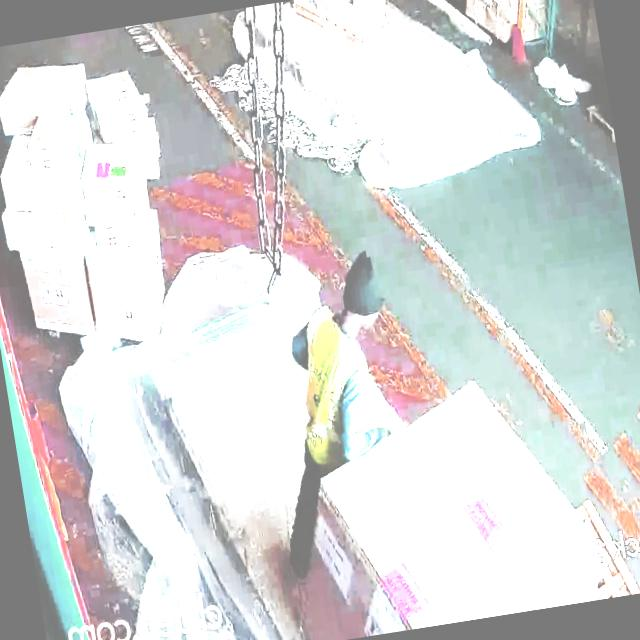Box: (432, 368, 611, 620), (309, 419, 466, 640), (82, 240, 174, 336), (24, 252, 96, 340), (0, 59, 89, 127), (75, 142, 142, 208), (92, 65, 151, 138), (0, 173, 73, 219), (4, 212, 80, 256), (32, 112, 84, 165)
